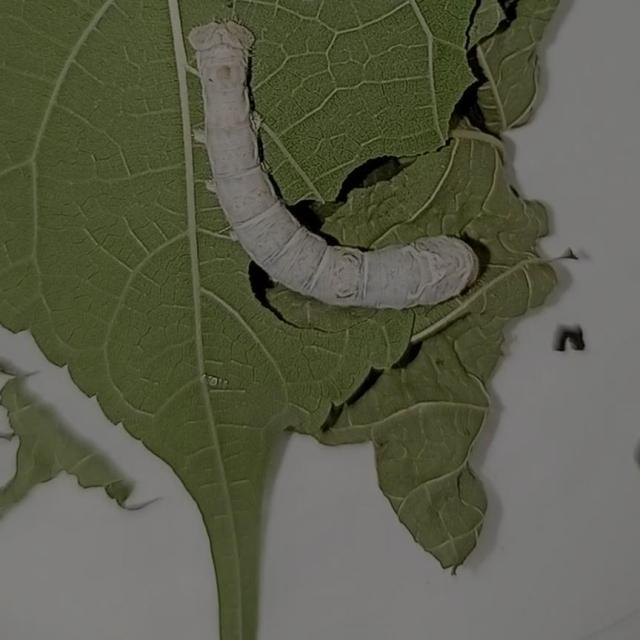Healthy: (179, 5, 495, 324)
